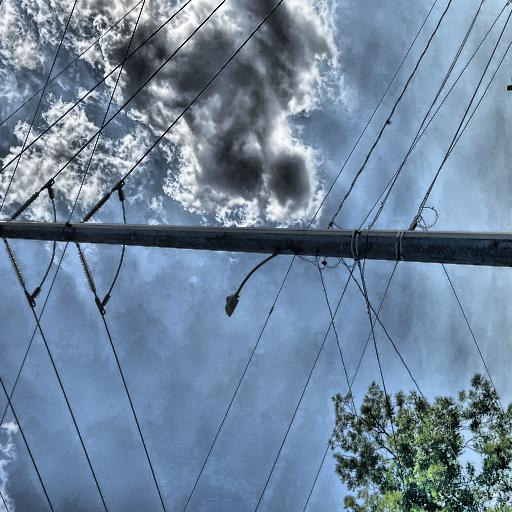pole: (101, 0, 169, 512)
street light: (72, 362, 138, 449)
